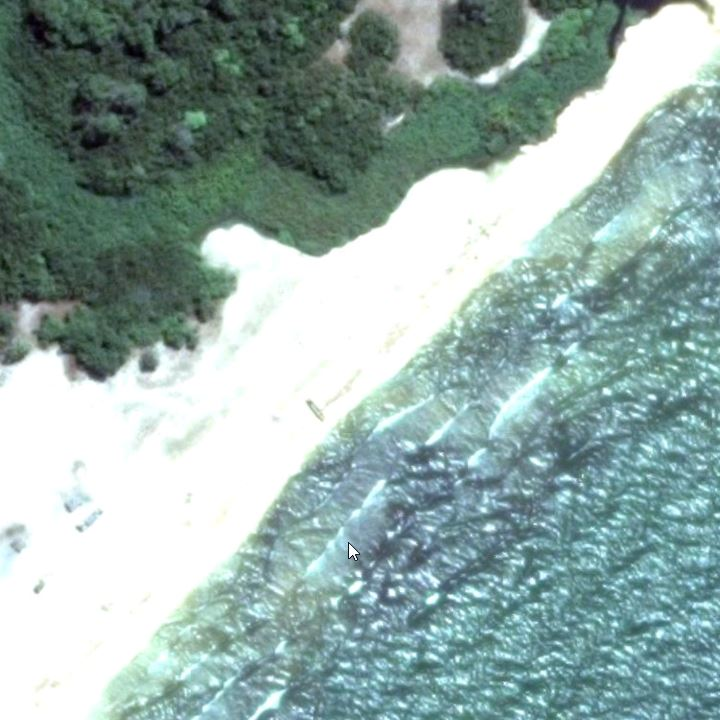boat: (297, 393, 332, 427)
